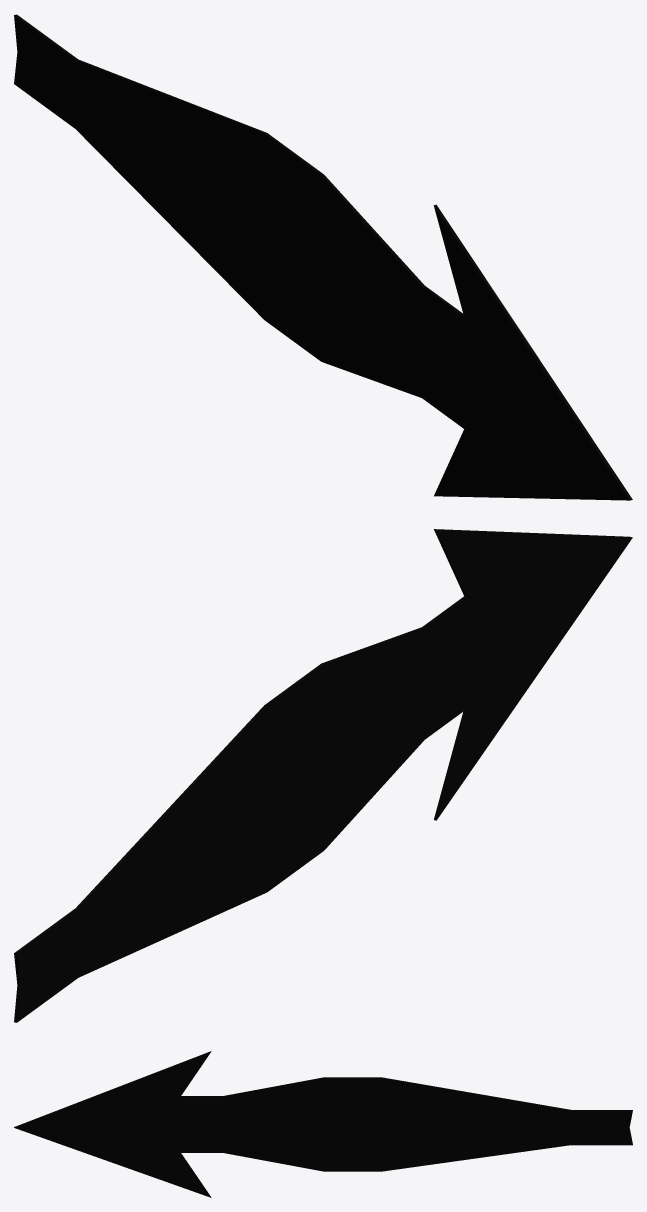
Rendered from hour hand.fbx.
3 views of the same model, one above another, from view 1: azimuth 30°, elevation 25°; view 2: azimuth 150°, elevation 25°; view 3: azimuth 270°, elevation 25° (orthographic). The views are drawn at different scales.
Visible parts, largest first — view 1: hour hand_Baked; view 2: hour hand_Baked; view 3: hour hand_Baked.
Boxes of the visible parts, x1,y1,x2,y2 form: hour hand_Baked: [14, 14, 632, 500]; hour hand_Baked: [14, 529, 632, 1022]; hour hand_Baked: [14, 1051, 632, 1197].
Size of the model in its own units: 0.0244 by 2.35 by 9.
1 material, 1 textured.
